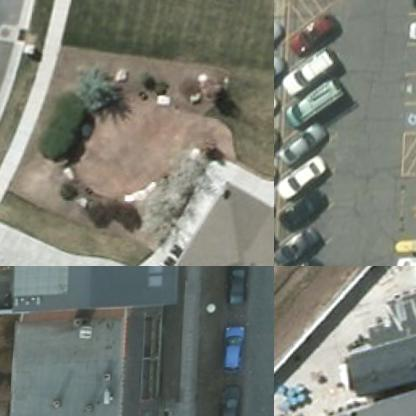car: (282, 193, 342, 240), (277, 163, 337, 209), (280, 128, 340, 174), (288, 81, 348, 127), (281, 58, 341, 104), (292, 11, 352, 57), (275, 227, 336, 265), (220, 330, 248, 387), (223, 266, 253, 312), (274, 58, 293, 105), (215, 393, 247, 415), (274, 192, 289, 238), (274, 19, 288, 66), (274, 92, 286, 139), (274, 129, 286, 176), (274, 166, 286, 213)
